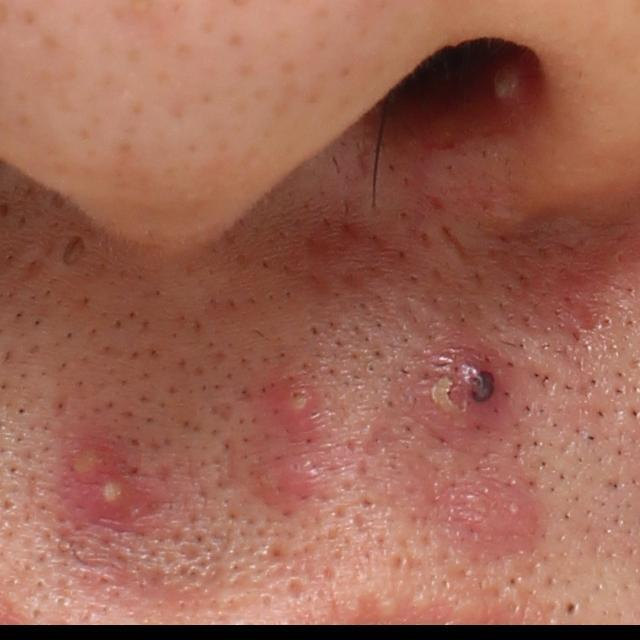atrophic_scar: (444, 225, 471, 263)
papule: (442, 455, 547, 564), (415, 336, 522, 440)
pustule: (256, 452, 313, 508), (55, 434, 113, 487), (275, 375, 322, 436), (87, 476, 134, 519)
